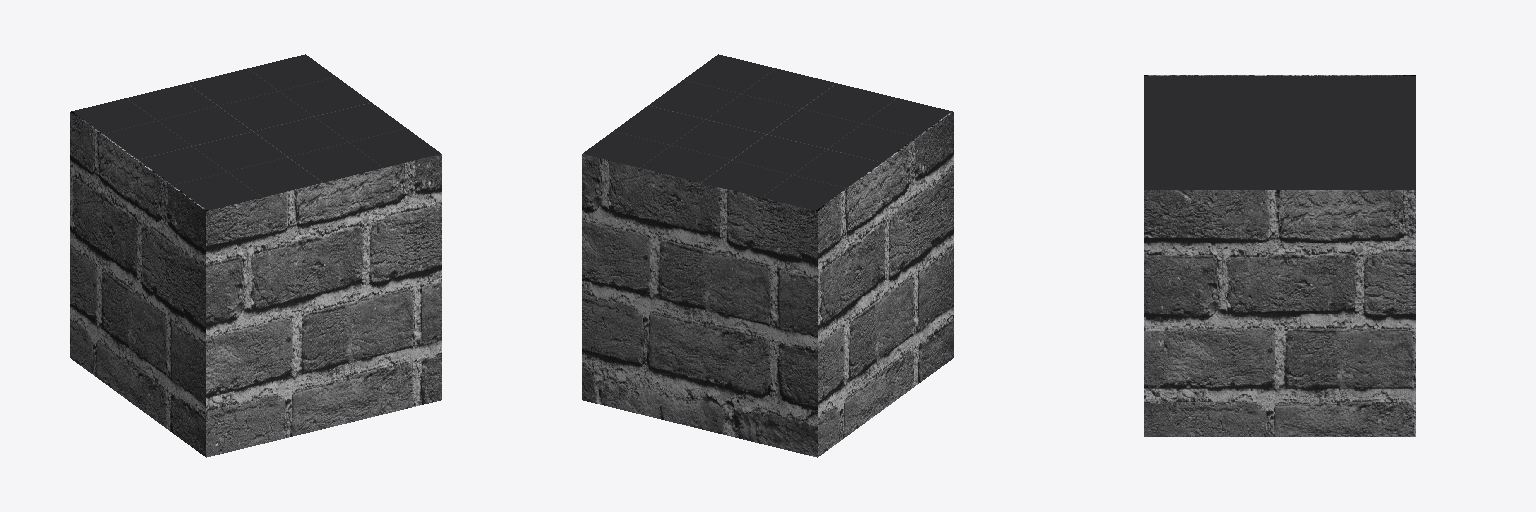
The picture shows the model from 3 angles: view 1: azimuth 30°, elevation 25°; view 2: azimuth 150°, elevation 25°; view 3: azimuth 270°, elevation 25°; orthographic projection.
Parts seen in each view (by area): view 1: Cube; view 2: Cube; view 3: Cube.
Part boxes in pixels (x1,y1,x2,y2): Cube: (70, 54, 441, 457); Cube: (582, 54, 953, 457); Cube: (1144, 75, 1415, 436).
Size of the model in its own units: 0.5 by 0.5 by 0.5.
1 materials, 1 textured.